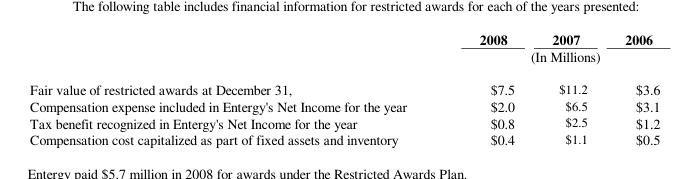table: (29, 29, 659, 148)
table column: (29, 29, 442, 148), (442, 29, 532, 148), (532, 29, 605, 148), (605, 29, 659, 148)
table column header: (29, 29, 659, 72)
table row: (29, 47, 659, 72), (29, 72, 659, 97), (29, 29, 659, 47), (29, 130, 659, 148), (29, 113, 659, 130), (29, 97, 659, 113)
table spanning cell: (442, 47, 659, 72)
